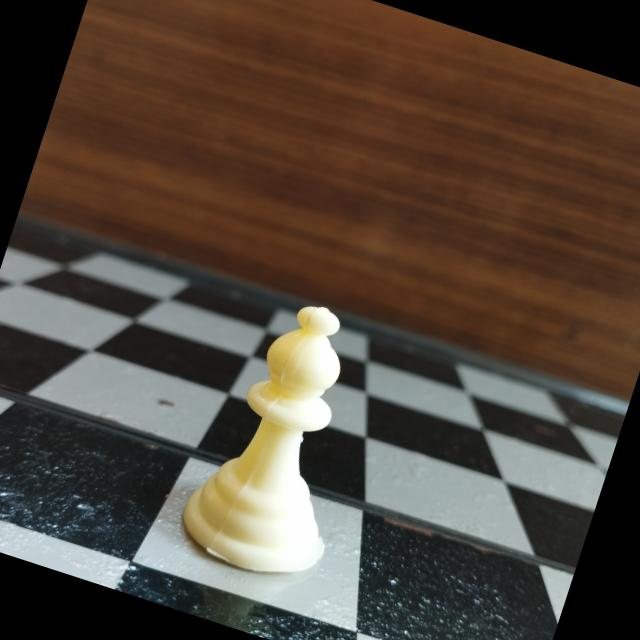White Bishop: (160, 272, 402, 599)
